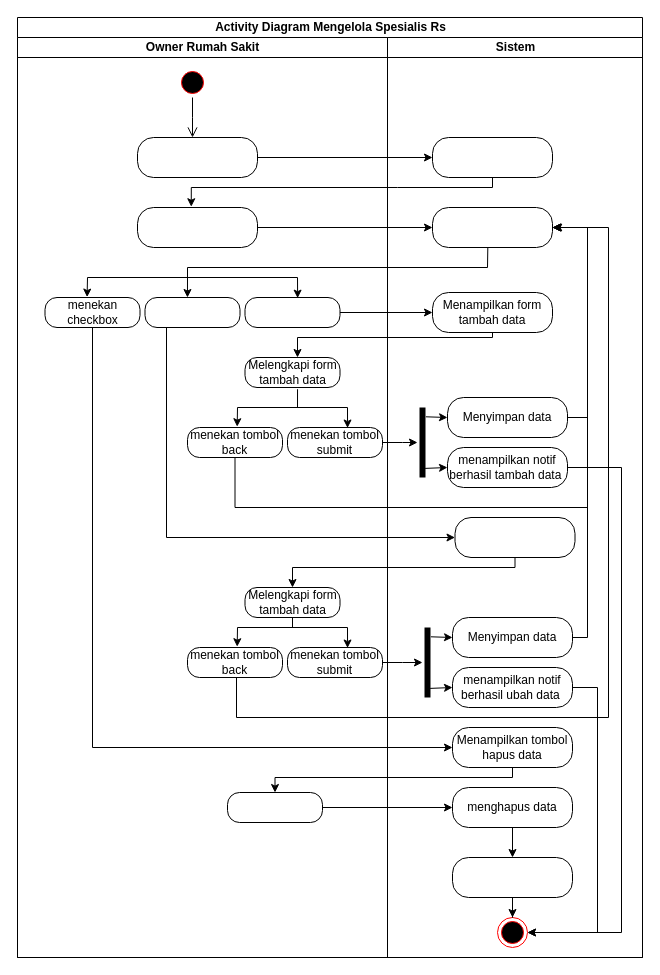
Image size: 660x975. Some labels were removed from this diagram. The centre of each missing label's shape, as x and y in pixels:
Memilih menu data rumah sakit: the point at 197,157
Menampilkan data rumah sakit: the point at 492,157
Menampilkan data spesialis rs: the point at 492,227
Menampilkan form edit data: the point at 514,537
menampilkan notif berhasil hapus data: the point at 512,877
menekan tombol edit: the point at 192,312
menekan tombol hapus data: the point at 274,807
Menekan tombol spesialis pada rumah sakit: the point at 197,227
menekan tombol tambah: the point at 292,312
